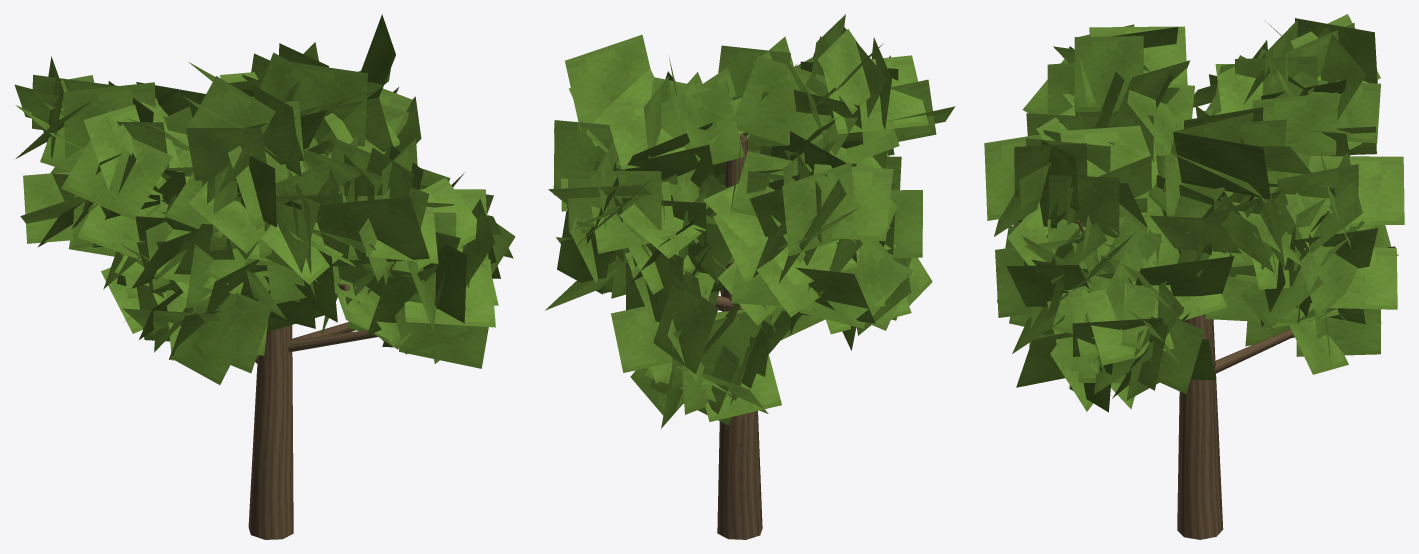
3 renders of one model, left to right at view 1: azimuth 30°, elevation 25°; view 2: azimuth 150°, elevation 25°; view 3: azimuth 270°, elevation 25°, orthographic.
Parts seen in each view (by area): view 1: oak-leaf, oak-bark; view 2: oak-leaf, oak-bark; view 3: oak-leaf, oak-bark.
Boxes of the visible parts, x1,y1,x2,y2 form: oak-leaf: (14, 14, 515, 384); oak-bark: (248, 283, 377, 539); oak-leaf: (545, 14, 955, 428); oak-bark: (715, 134, 762, 539); oak-leaf: (984, 14, 1404, 412); oak-bark: (1077, 196, 1294, 539).
Size of the model in its own units: 8.36 by 9.52 by 7.67.
Materials: 2 (2 with a texture image).
